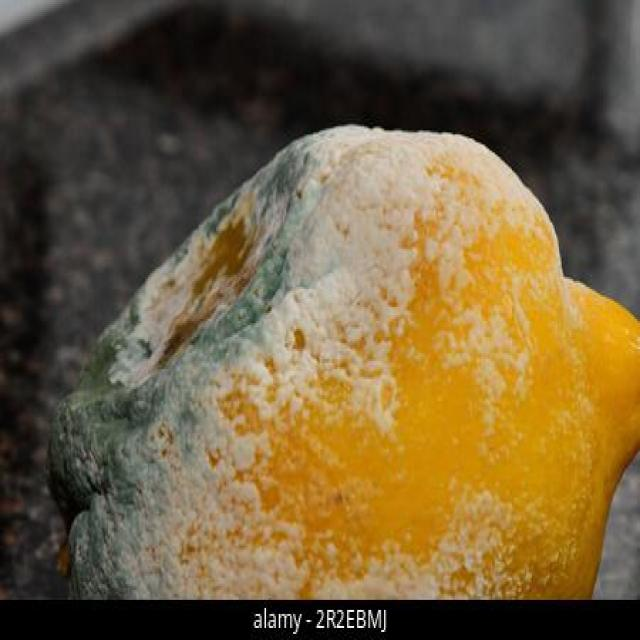Rotten: (42, 122, 640, 595)
